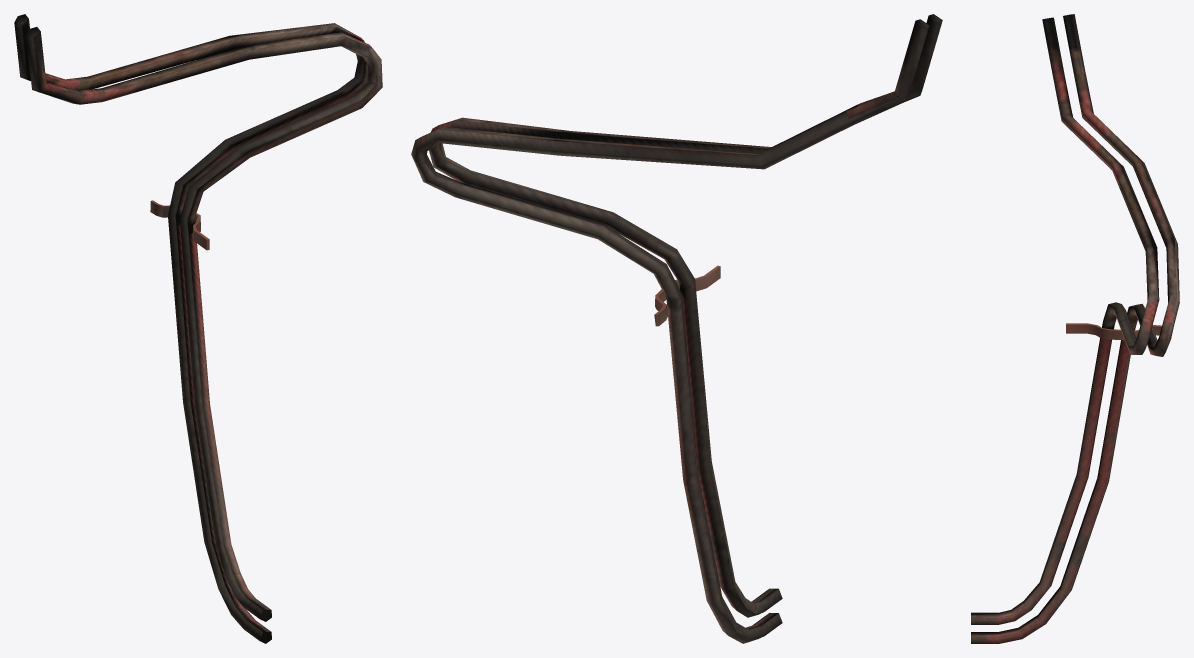
The picture shows the model from 3 angles, left to right: view 1: azimuth 30°, elevation 25°; view 2: azimuth 150°, elevation 25°; view 3: azimuth 270°, elevation 25°; orthographic projection. The views are drawn at different scales.
Visible parts, largest first — view 1: Object_94; view 2: Object_94; view 3: Object_94.
Part boxes in pixels (box(x1,y1,x2,y2)): Object_94: box(14, 14, 382, 643); Object_94: box(411, 14, 942, 643); Object_94: box(971, 14, 1179, 643).
Bounding box in the file's own units: 0.935 × 1.38 × 0.4727.
1 material, 1 textured.
